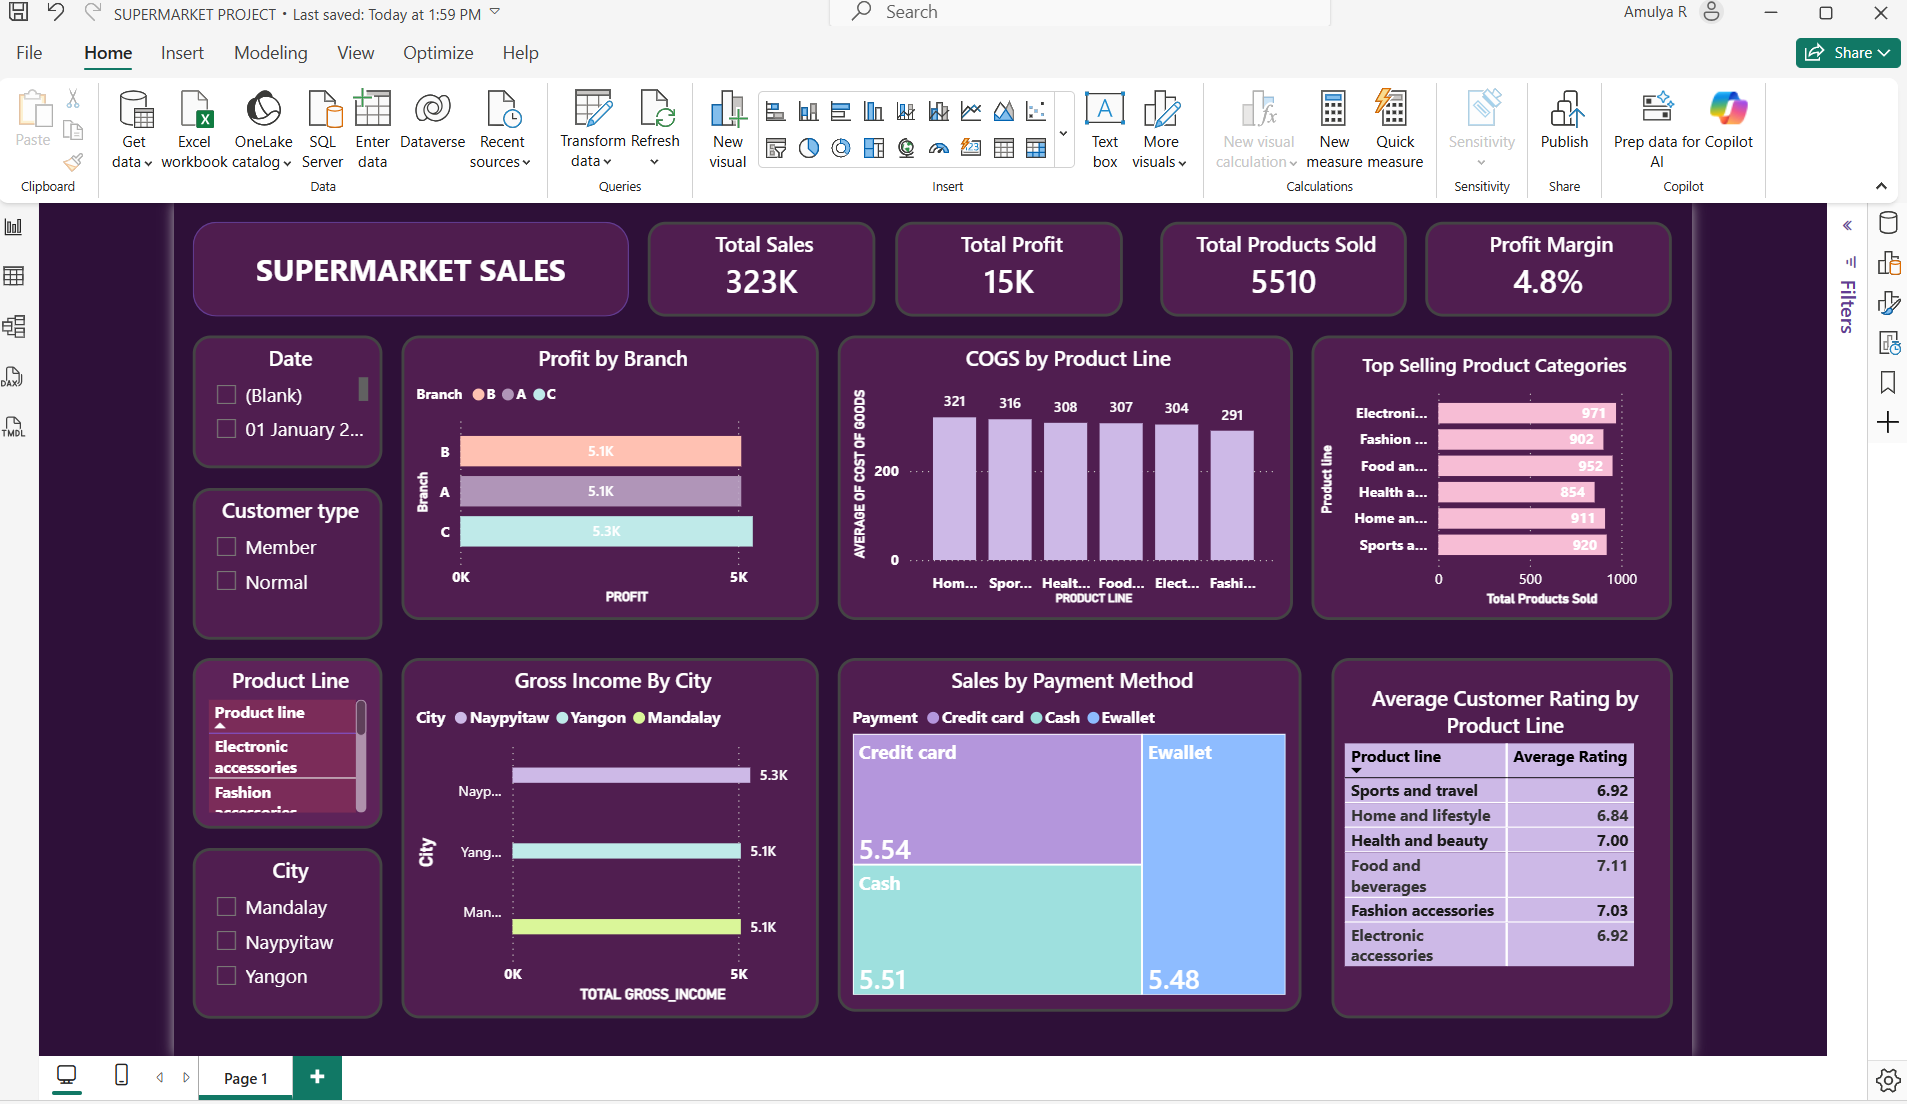

The page's visual inventory and layout, read from the dashboard file:
{"tool":"powerbi","page":{"name":"Page 1","canvas":[1280,720],"ordinal":0},"visuals":[{"type":"tableEx","title":"Products Sold by Product Line","fields":{"Values":["supermarket_sales.Product line","supermarket_sales.TOTALPRODUCTSOLD"]},"box":[960,112,304,240],"z":0},{"type":"card","title":"Total Products Sold","fields":{"Values":["supermarket_sales.TOTALPRODUCTSOLD"]},"box":[832,16,208,80],"z":1000},{"type":"tableEx","title":"Average Customer Rating by Product Line","fields":{"Values":["supermarket_sales.Product line","supermarket_sales.Average Rating"]},"box":[976,384,288,304],"z":2000},{"type":"treemap","title":"Sales by Payment Method","fields":{"Values":["supermarket_sales.AVERAGE QUANTITY"],"Group":["supermarket_sales.Payment"]},"box":[560,384,391,298],"z":3000},{"type":"clusteredBarChart","title":"Gross Income By City","fields":{"Y":["supermarket_sales.TOTAL GROSS_INCOME"],"Category":["supermarket_sales.City"],"Series":["supermarket_sales.City"]},"box":[192,384,352,304],"z":4000},{"type":"barChart","title":"Profit by Branch ","fields":{"Category":["supermarket_sales.Branch"],"Y":["supermarket_sales.PROFIT"],"Series":["supermarket_sales.Branch"]},"box":[192,112,352,240],"z":5000},{"type":"clusteredColumnChart","title":"COGS by Product Line","fields":{"Category":["supermarket_sales.Product line"],"Y":["supermarket_sales.Average COGS"]},"box":[560,112,384,240],"z":6000},{"type":"shape","box":[16,16,368,80],"z":7000},{"type":"card","title":"Total Sales","fields":{"Values":["supermarket_sales.Total Sales"]},"box":[400,16,192,80],"z":8000},{"type":"card","title":"Total Profit","fields":{"Values":["supermarket_sales.Total Profit"]},"box":[608,16,192,80],"z":9000},{"type":"card","title":"Profit Margin","fields":{"Values":["supermarket_sales.Profit Margin"]},"box":[1056,16,208,80],"z":10000},{"type":"tableEx","title":"Product Line","fields":{"Values":["supermarket_sales.Product line"]},"box":[16,384,160,144],"z":11000},{"type":"slicer","title":"Date","fields":{"Values":["supermarket_sales.Date"]},"box":[16,112,160,112],"z":12000},{"type":"slicer","title":"Customer type","fields":{"Values":["supermarket_sales.Customer type"]},"box":[16,240,160,128],"z":13000},{"type":"slicer","title":"City","fields":{"Values":["supermarket_sales.City"]},"box":[16,544,160,144],"z":14000}]}

Visuals, with their boxes on the page's 1280x720 design canvas (x1, y1, x2, y2). These are canvas units, not pixel positions in the 1907x1104 screenshot, which may show the page scaled, cropped or inside an application window:
"Products Sold by Product Line" tableEx: (x1=960, y1=112, x2=1264, y2=352)
"Total Products Sold" card: (x1=832, y1=16, x2=1040, y2=96)
"Average Customer Rating by Product Line" tableEx: (x1=976, y1=384, x2=1264, y2=688)
"Sales by Payment Method" treemap: (x1=560, y1=384, x2=951, y2=682)
"Gross Income By City" clusteredBarChart: (x1=192, y1=384, x2=544, y2=688)
"Profit by Branch " barChart: (x1=192, y1=112, x2=544, y2=352)
"COGS by Product Line" clusteredColumnChart: (x1=560, y1=112, x2=944, y2=352)
shape: (x1=16, y1=16, x2=384, y2=96)
"Total Sales" card: (x1=400, y1=16, x2=592, y2=96)
"Total Profit" card: (x1=608, y1=16, x2=800, y2=96)
"Profit Margin" card: (x1=1056, y1=16, x2=1264, y2=96)
"Product Line" tableEx: (x1=16, y1=384, x2=176, y2=528)
"Date" slicer: (x1=16, y1=112, x2=176, y2=224)
"Customer type" slicer: (x1=16, y1=240, x2=176, y2=368)
"City" slicer: (x1=16, y1=544, x2=176, y2=688)
